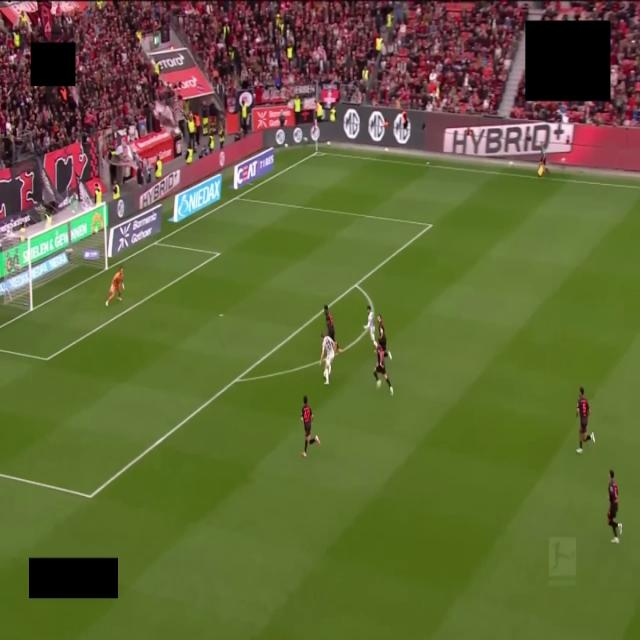player: (301, 396, 320, 456), (577, 387, 594, 454), (320, 335, 341, 384), (608, 470, 622, 543), (374, 344, 393, 395), (377, 314, 392, 359), (106, 267, 123, 306), (364, 305, 376, 347), (324, 305, 335, 341)
